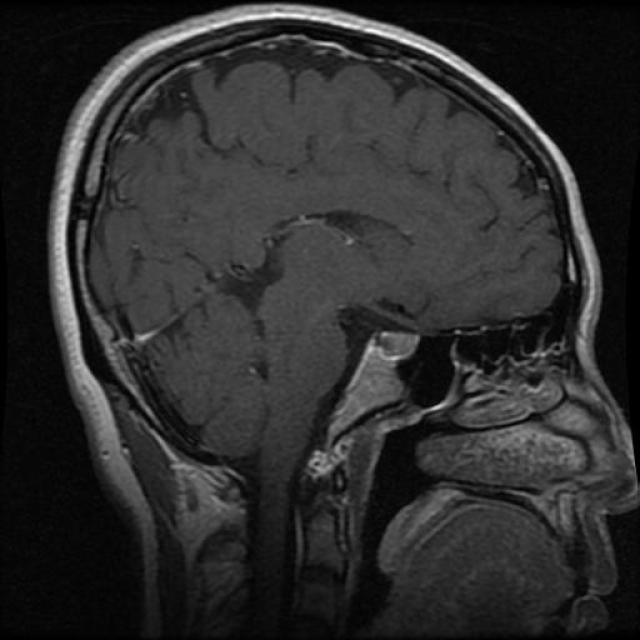pituitary: (324, 322, 425, 444)
